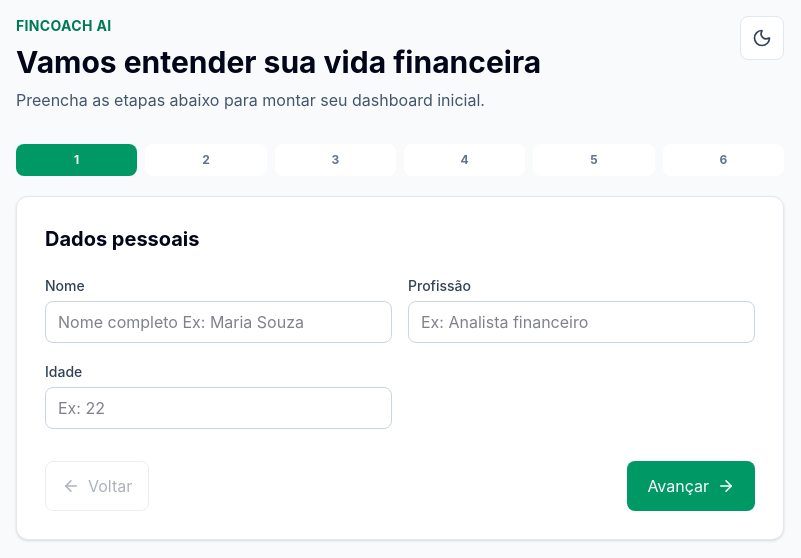
Test case: Onboarding › avança para step Receitas ao preencher dados pessoais válidos
The width and height of the screenshot is (801, 558).
Type "Ana Silva" into the field labelled "Nome".
click(218, 322); type("Ana Silva")  # box 45,301 -> 392,343
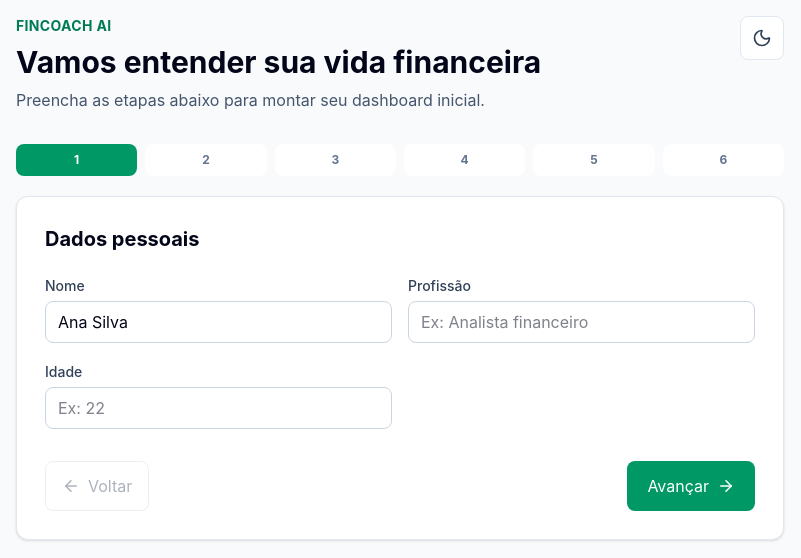
Type "Engenheira" into the field labelled "Profissão".
click(582, 322); type("Engenheira")  # box 408,301 -> 755,343
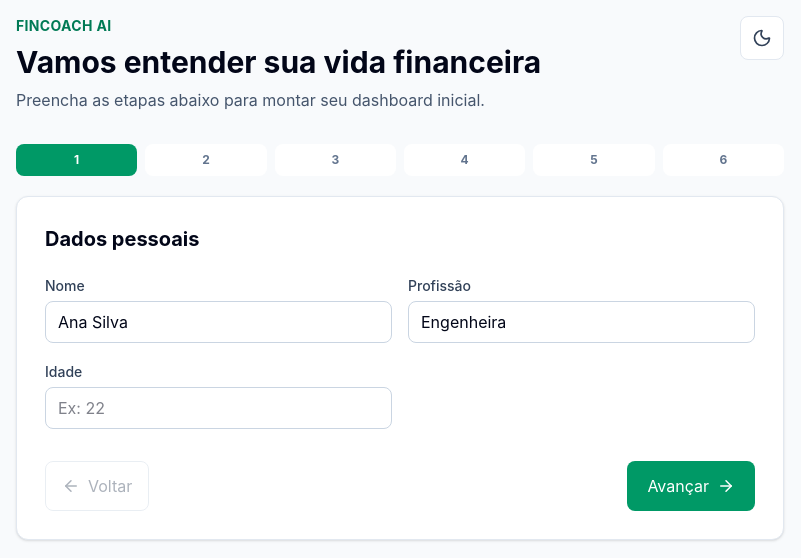
Type "28" into the number field labelled "Idade".
click(218, 408); type("28")  # box 45,387 -> 392,429
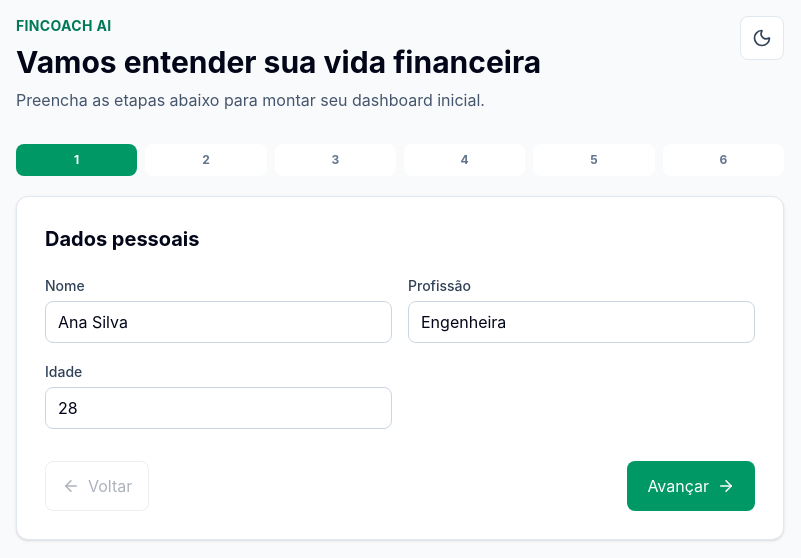
Click the button "Avançar".
click(691, 486)  # box 627,461 -> 755,511
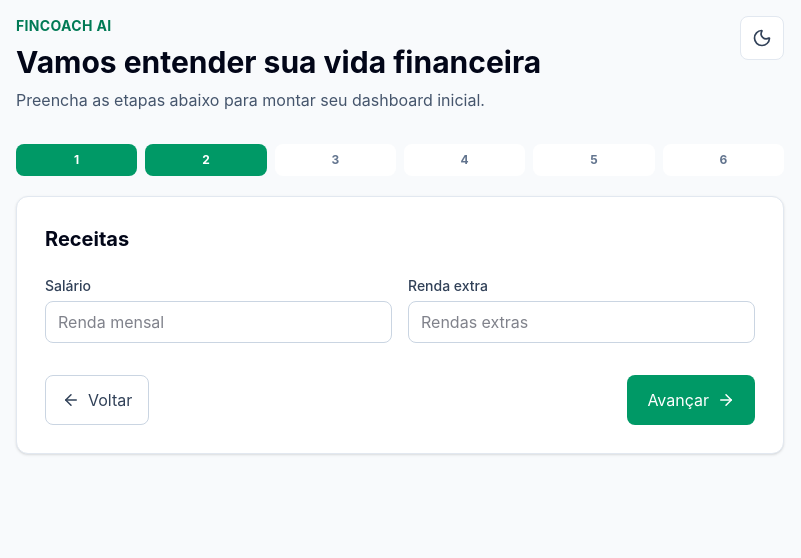
Result: the heading "Receitas" is shown at 45,227 -> 129,251
